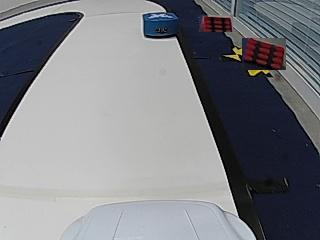prop: (143, 12, 180, 39)
